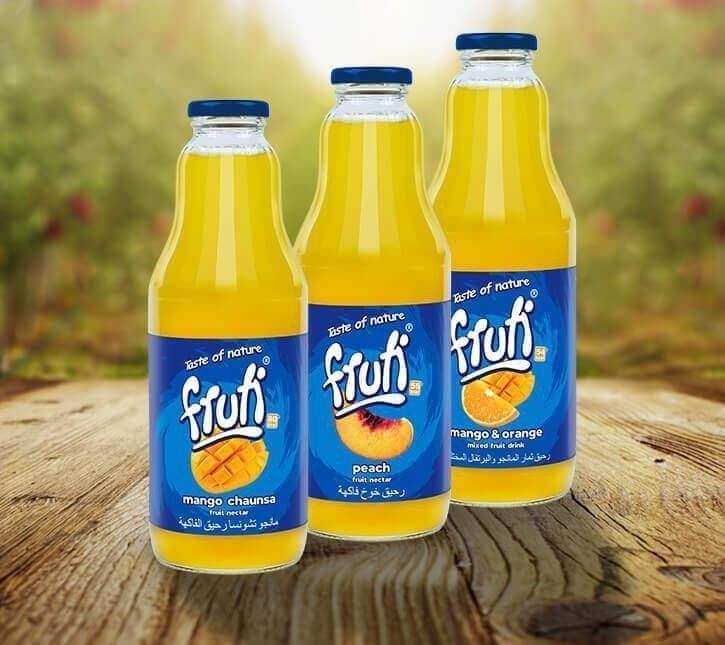bottle-glass: (143, 91, 312, 579), (289, 57, 456, 547), (419, 27, 583, 511)
